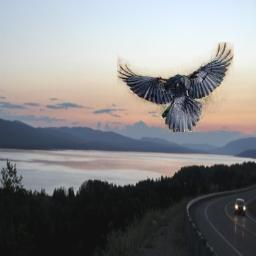Crow: (117, 42, 234, 132)
